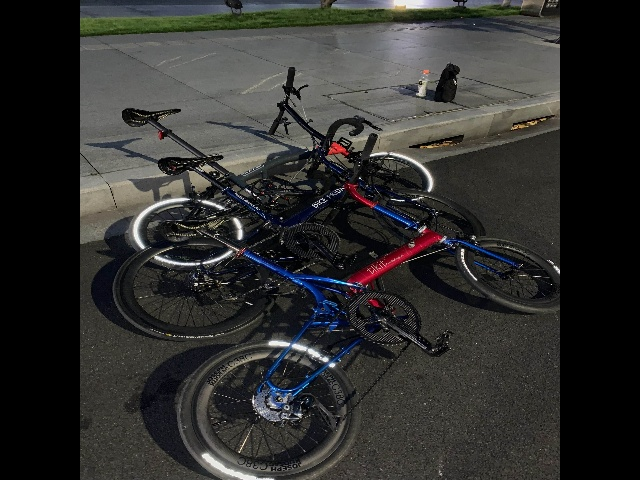bike: (180, 217, 556, 479), (116, 63, 460, 248)
